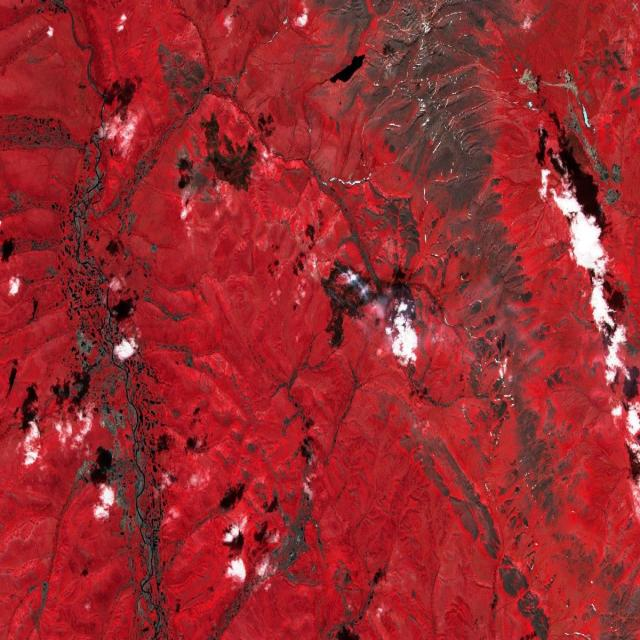fire: (317, 254, 379, 329)
